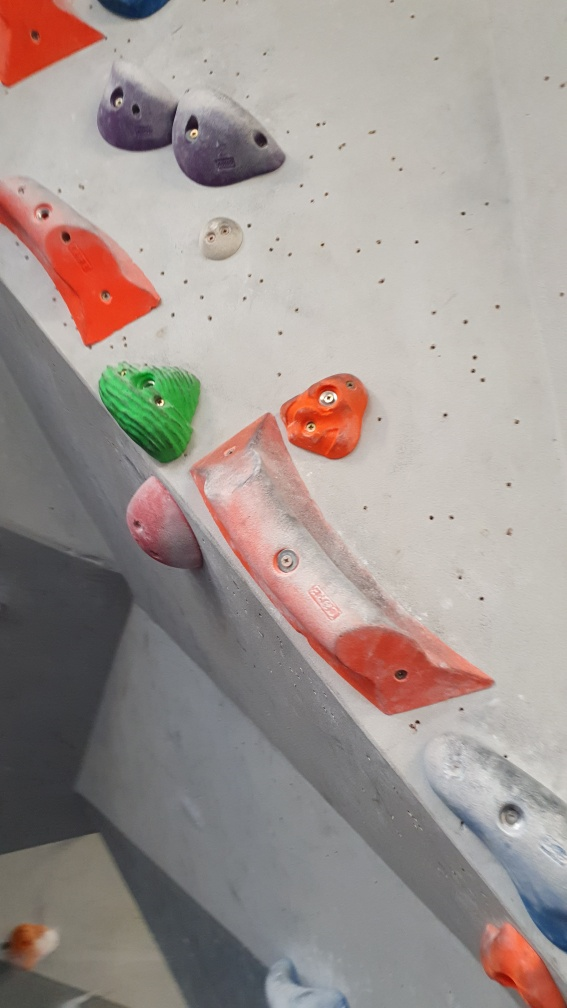Jug: (166, 83, 287, 191), (97, 353, 201, 467), (95, 56, 180, 150)
Pinch: (183, 411, 498, 719), (423, 731, 567, 949), (1, 169, 168, 348)
Sloper: (125, 473, 208, 572)
